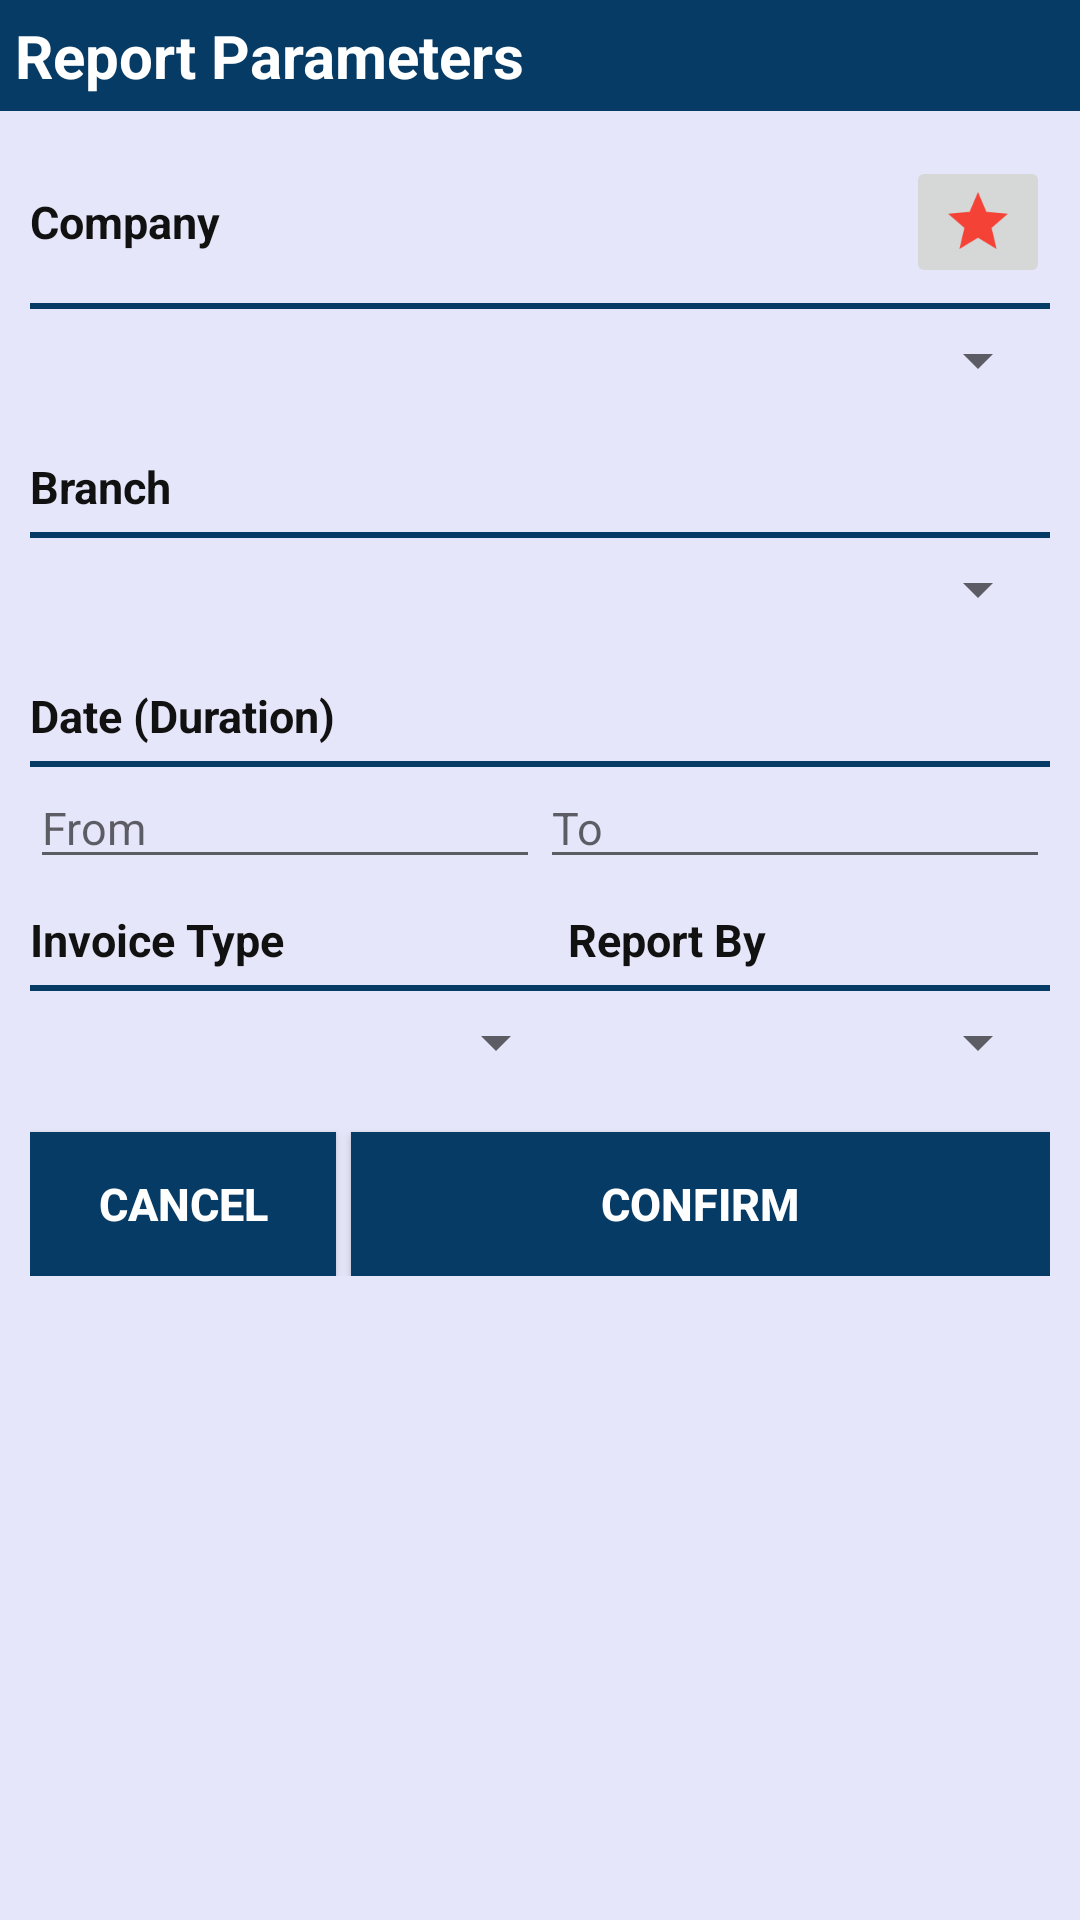

Named icons in this screenshot (1080×1920) and their bounding boxes, (x1, y1, x2, y2):
grade: (918, 174, 1038, 270)
